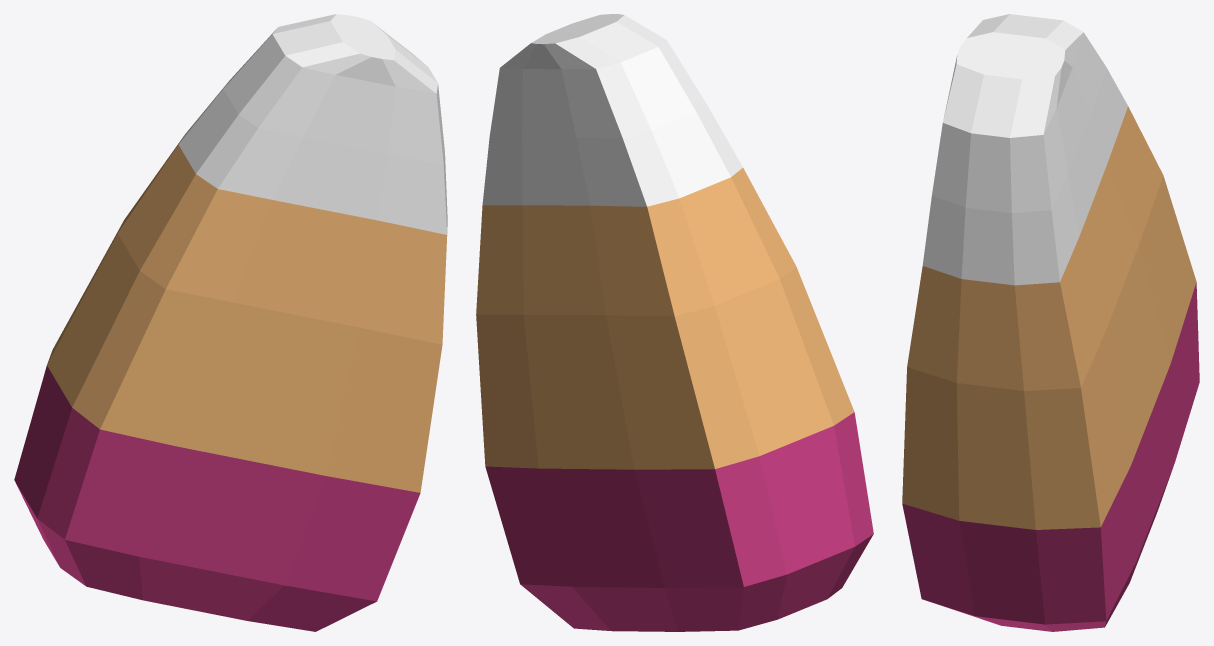
The model's file is Halloween.OrangeCorn.fbx.
The picture shows the model from 3 angles, left to right: view 1: azimuth 30°, elevation 25°; view 2: azimuth 150°, elevation 25°; view 3: azimuth 270°, elevation 25°; orthographic projection. The views are drawn at different scales.
Visible parts, largest first — view 1: OrangeCorn; view 2: OrangeCorn; view 3: OrangeCorn.
Part boxes in pixels (bbox=[...]): OrangeCorn: bbox=[14, 14, 447, 631]; OrangeCorn: bbox=[476, 14, 873, 631]; OrangeCorn: bbox=[902, 14, 1199, 631].
Bounding box in the file's own units: 61.21 × 89.01 × 39.68.
